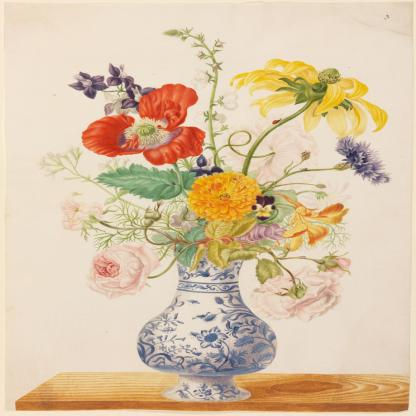vase: (138, 252, 276, 400)
